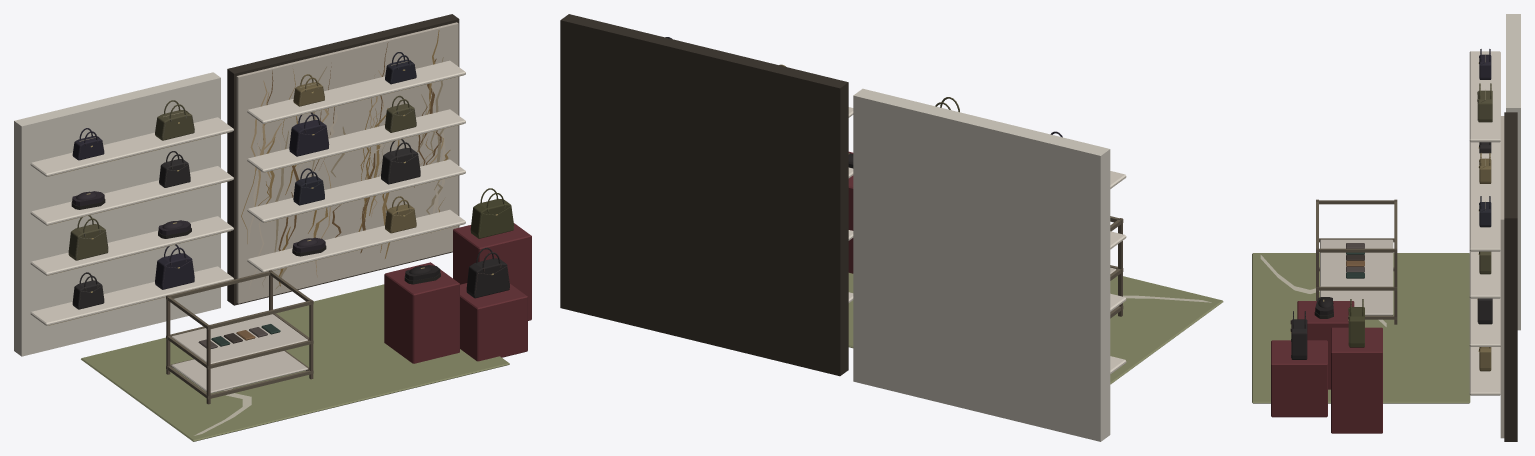
File: display.glb
3 views of the same model, side by side, from view 1: azimuth 30°, elevation 25°; view 2: azimuth 150°, elevation 25°; view 3: azimuth 270°, elevation 25° (orthographic). The views are drawn at different scales.
Visible parts, largest first — view 1: FerragamoMensDisplay; view 2: FerragamoMensDisplay; view 3: FerragamoMensDisplay.
Boxes of the visible parts, x1=… form: FerragamoMensDisplay: x1=14, y1=14, x2=531, y2=441; FerragamoMensDisplay: x1=560, y1=14, x2=1223, y2=441; FerragamoMensDisplay: x1=1252, y1=14, x2=1520, y2=441.
Bounding box in the file's own units: 5.91 × 3 × 3.26.
